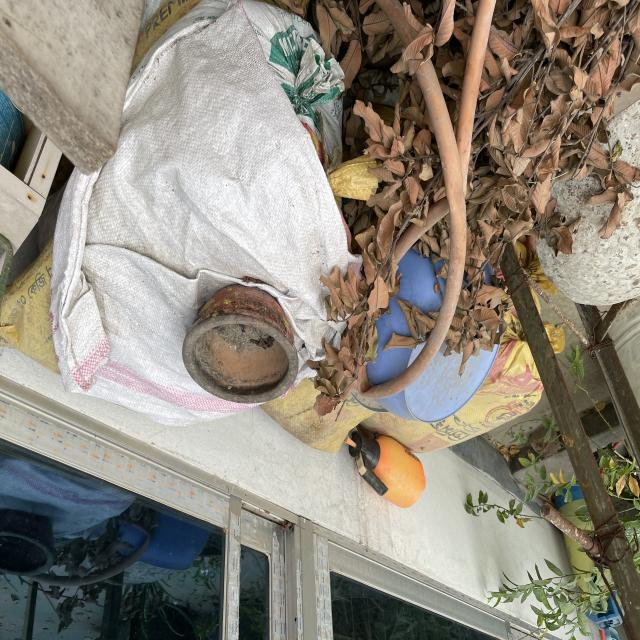Breeding Place: (172, 276, 304, 414)
